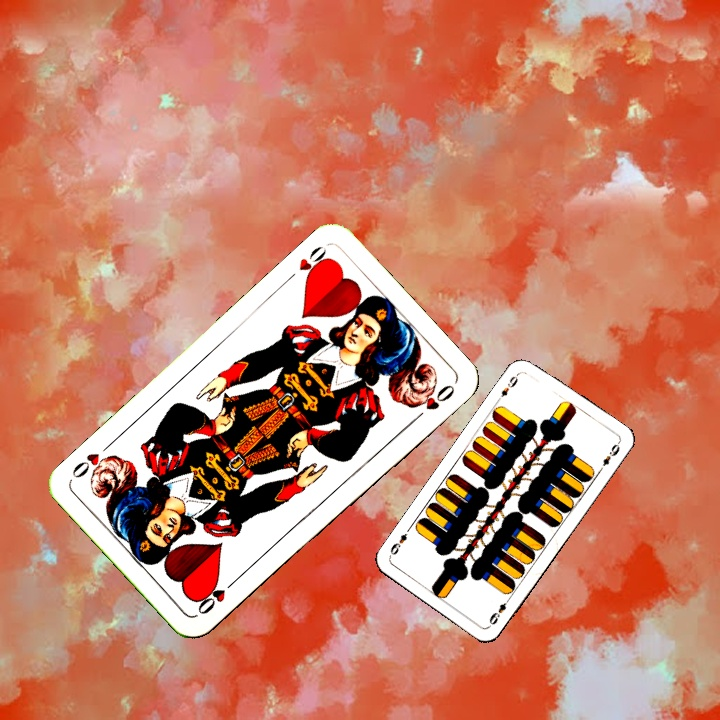E9: (493, 369, 522, 404), (485, 593, 513, 629)
HO: (281, 241, 333, 285), (193, 573, 241, 618)
